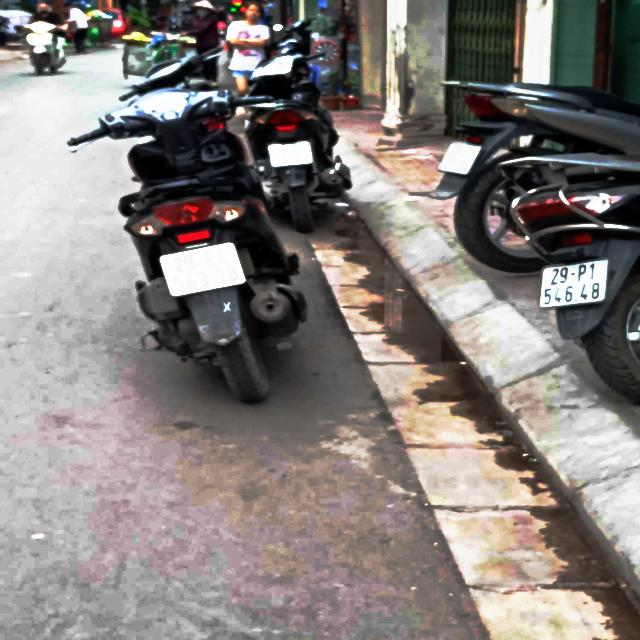license_plate: (153, 238, 255, 303), (535, 254, 615, 313)
